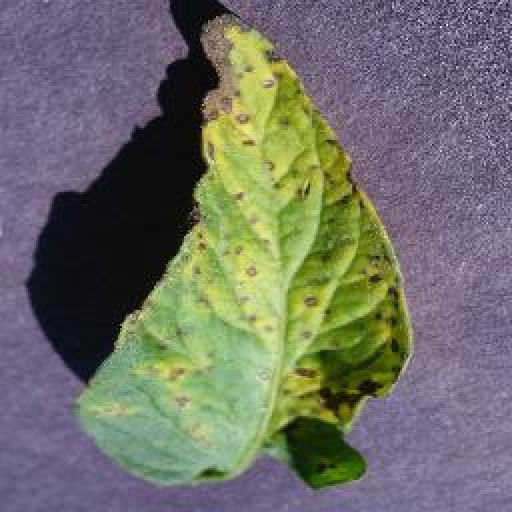disease_tomato: (74, 14, 412, 486)
